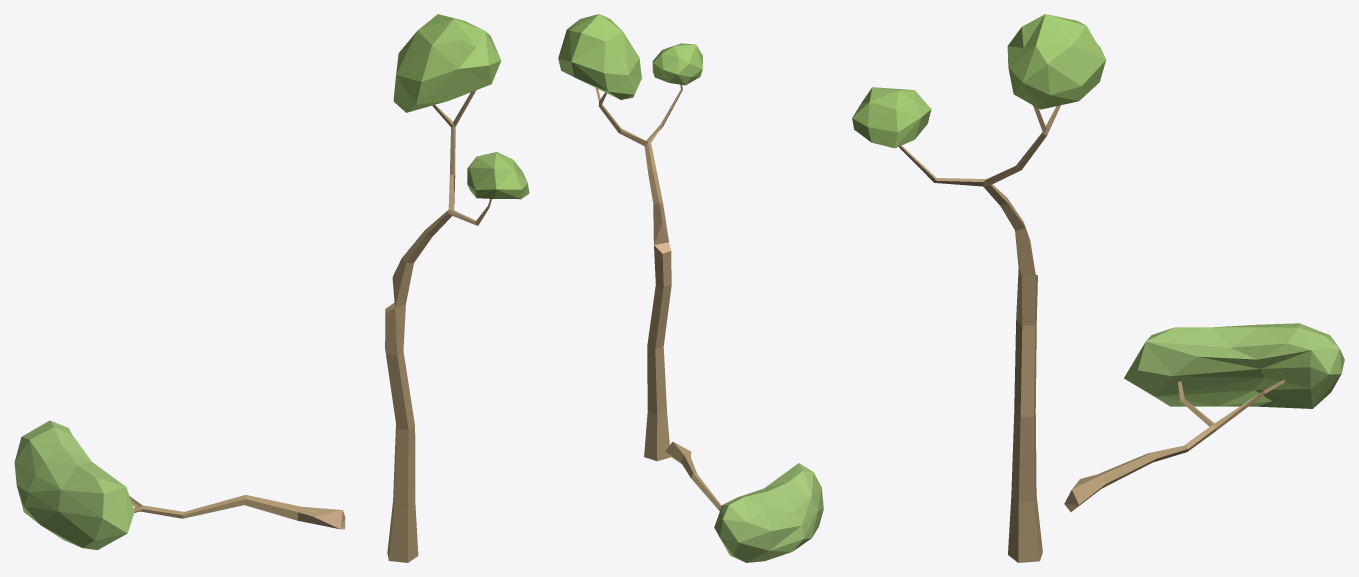
Rendered from Acacia_Tree_crk_s_02_LOD.fbx.
3 renders of one model, left to right at view 1: azimuth 30°, elevation 25°; view 2: azimuth 150°, elevation 25°; view 3: azimuth 270°, elevation 25°, orthographic. The views are drawn at different scales.
Visible parts, largest first — view 1: Acacia_Tree_crk_s_02_LOD0; view 2: Acacia_Tree_crk_s_02_LOD0; view 3: Acacia_Tree_crk_s_02_LOD0.
Part boxes in pixels (<box>): Acacia_Tree_crk_s_02_LOD0: <box>14,14,529,562</box>; Acacia_Tree_crk_s_02_LOD0: <box>558,14,823,562</box>; Acacia_Tree_crk_s_02_LOD0: <box>852,14,1344,562</box>.
Size of what is drawn, in the model's own units: 502 by 658 by 511.
